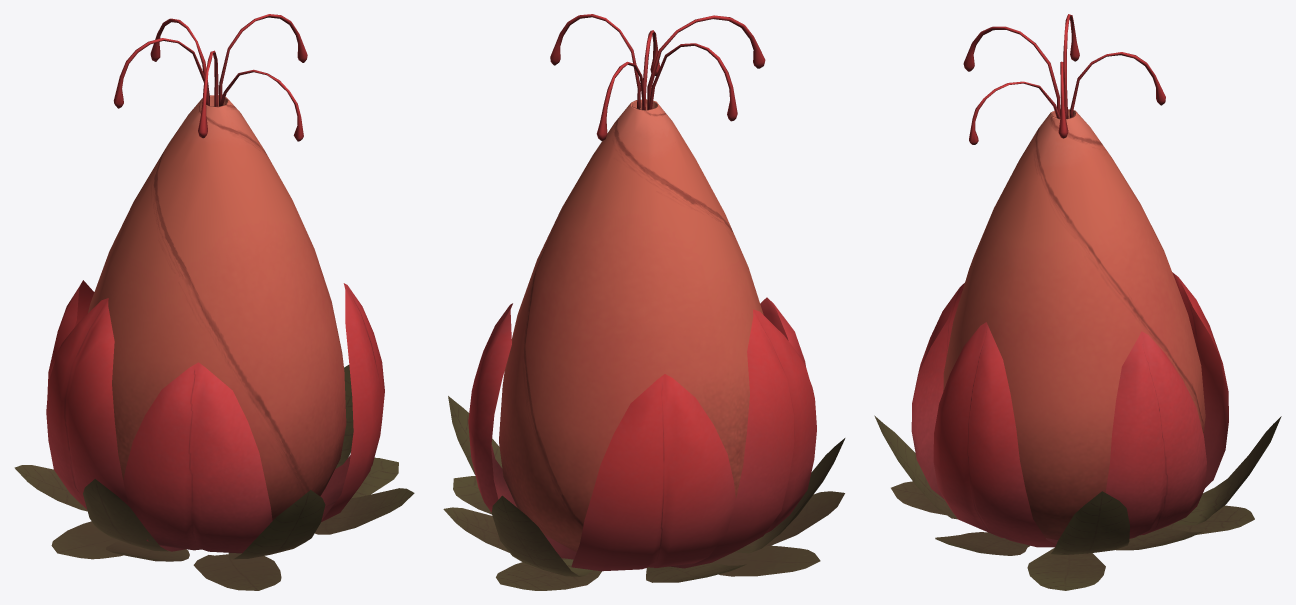
File: flower2_LOD1.fbx
3 views of the same model, side by side, from view 1: azimuth 30°, elevation 25°; view 2: azimuth 150°, elevation 25°; view 3: azimuth 270°, elevation 25° (orthographic). The views are drawn at different scales.
Visible parts, largest first — view 1: PlantEgg4; view 2: PlantEgg4; view 3: PlantEgg4.
Part boxes in pixels (x1,y1,x2,y2): PlantEgg4: (14,14,414,590); PlantEgg4: (443,14,845,590); PlantEgg4: (874,14,1281,590).
Size of the model in its own units: 5.6 by 7.66 by 5.89.
1 material, 1 textured.
